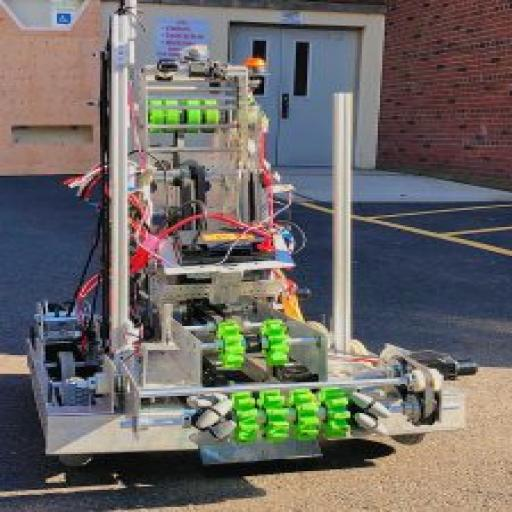robot: (25, 7, 478, 478)
